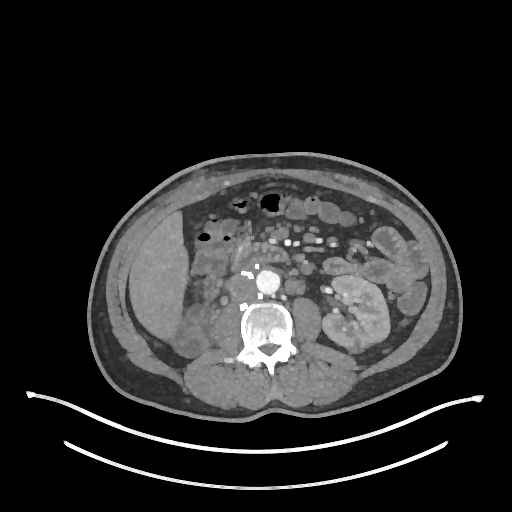Lesion: (343, 338, 365, 356)
